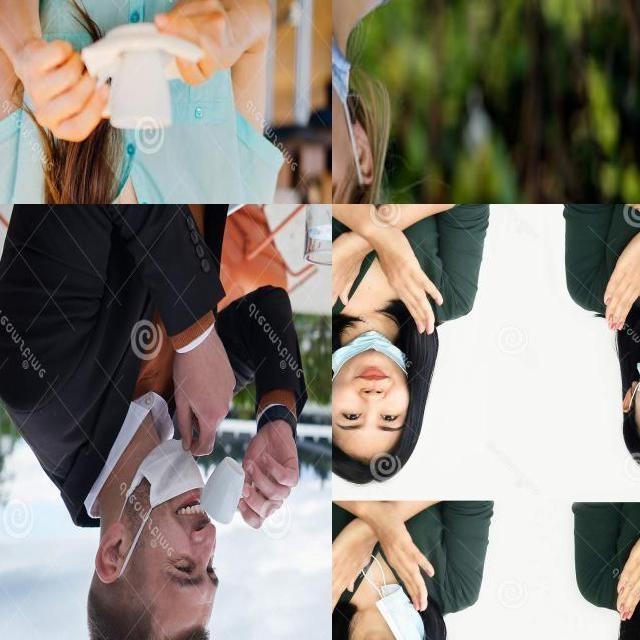hairnet: (138, 444, 222, 600), (332, 339, 410, 434)
no_apron: (12, 23, 117, 147), (366, 217, 444, 333), (171, 325, 237, 462), (237, 419, 301, 550), (370, 501, 441, 613), (332, 514, 373, 615), (604, 232, 640, 340), (615, 533, 640, 621)
no_gloves: (87, 553, 216, 639), (332, 422, 426, 490)
